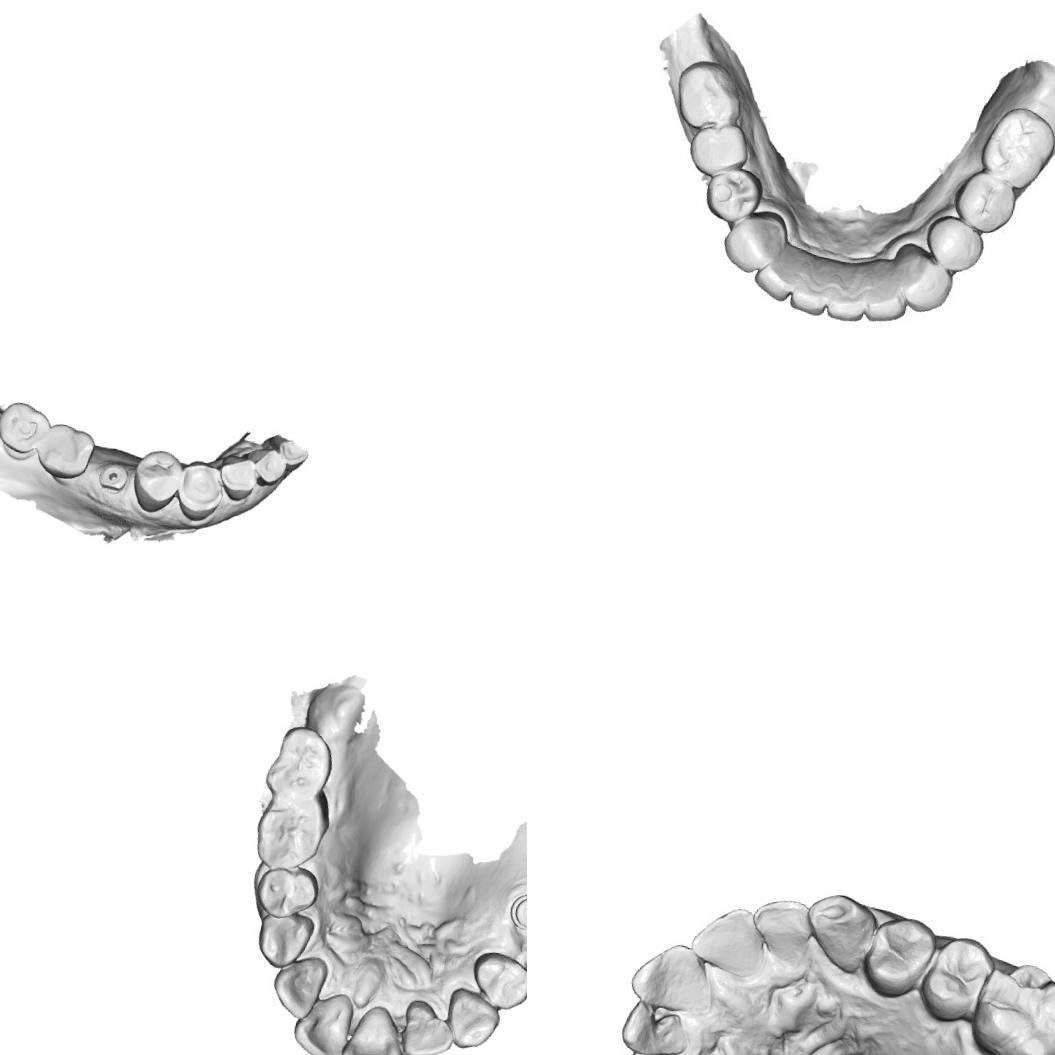canine: (800, 888, 878, 977), (721, 206, 785, 276), (440, 984, 504, 1054), (891, 244, 954, 312), (252, 908, 316, 974), (212, 449, 262, 504)
implant: (94, 456, 132, 494), (505, 889, 527, 934)
incisor: (624, 934, 718, 1019), (686, 897, 768, 976), (746, 891, 818, 967), (266, 948, 331, 1023), (288, 985, 357, 1055), (614, 999, 689, 1055), (337, 1000, 411, 1055), (784, 252, 838, 323), (395, 997, 459, 1055), (858, 266, 911, 328), (751, 239, 803, 301), (820, 259, 868, 325), (244, 444, 290, 488), (260, 433, 310, 468)
molar: (962, 952, 1055, 1055), (248, 791, 334, 876), (260, 718, 340, 806), (982, 103, 1055, 186), (670, 54, 744, 130), (32, 418, 99, 483), (0, 396, 52, 459)
premolar: (911, 929, 995, 1028), (857, 909, 940, 1004), (251, 859, 322, 924), (126, 442, 187, 516), (956, 166, 1023, 231), (464, 947, 527, 1014), (170, 456, 226, 524), (688, 120, 750, 176), (702, 164, 761, 222), (926, 212, 983, 269)
